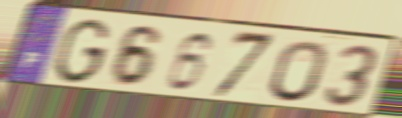3: (321, 43, 382, 109)
6: (104, 24, 168, 90), (167, 30, 214, 93)
7: (208, 29, 278, 101)
G: (50, 17, 113, 86)
O: (267, 38, 331, 105)
